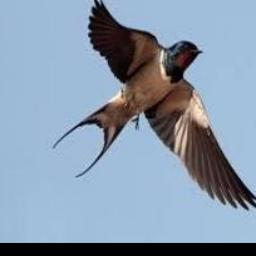Swallow: (54, 0, 256, 209)
